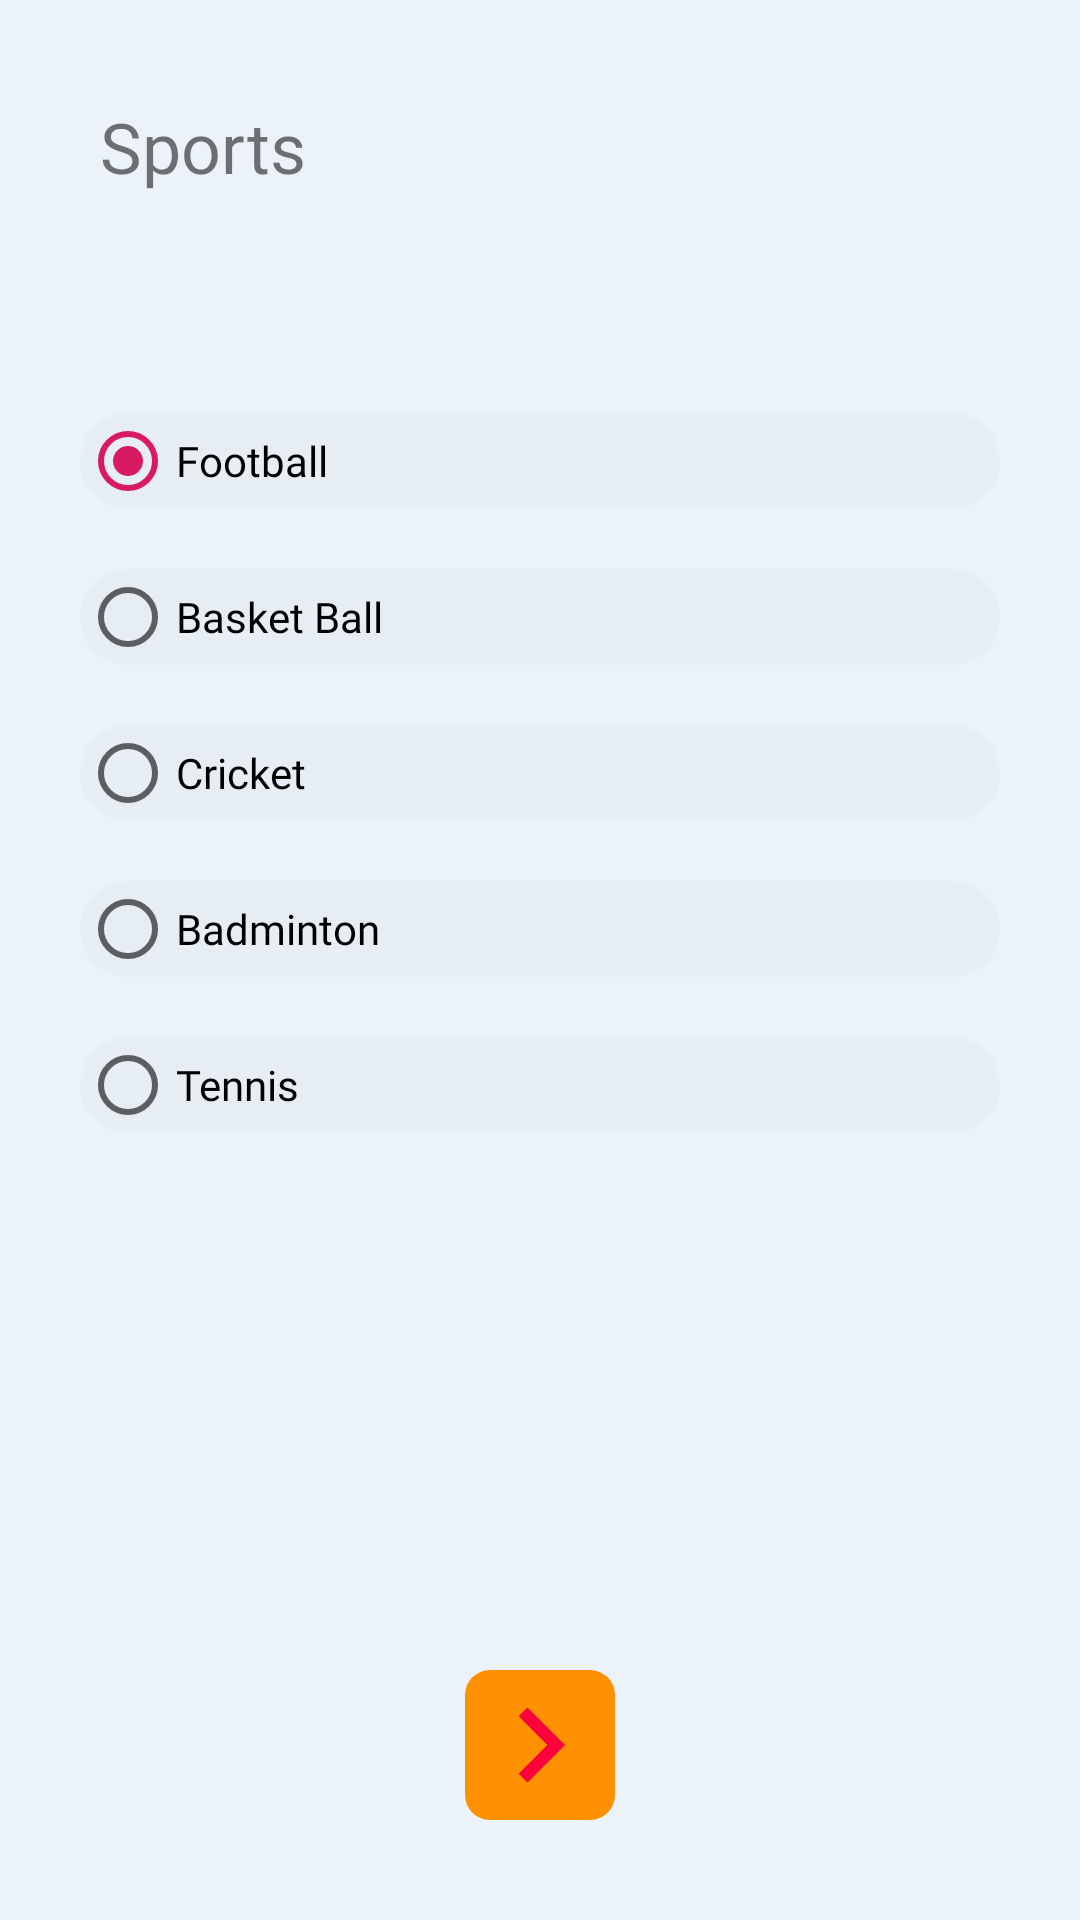

Where icons sit on this 1080×1920 app screen, as BBox(x1, y1, x2, y2):
go right: BBox(465, 1670, 615, 1820)
